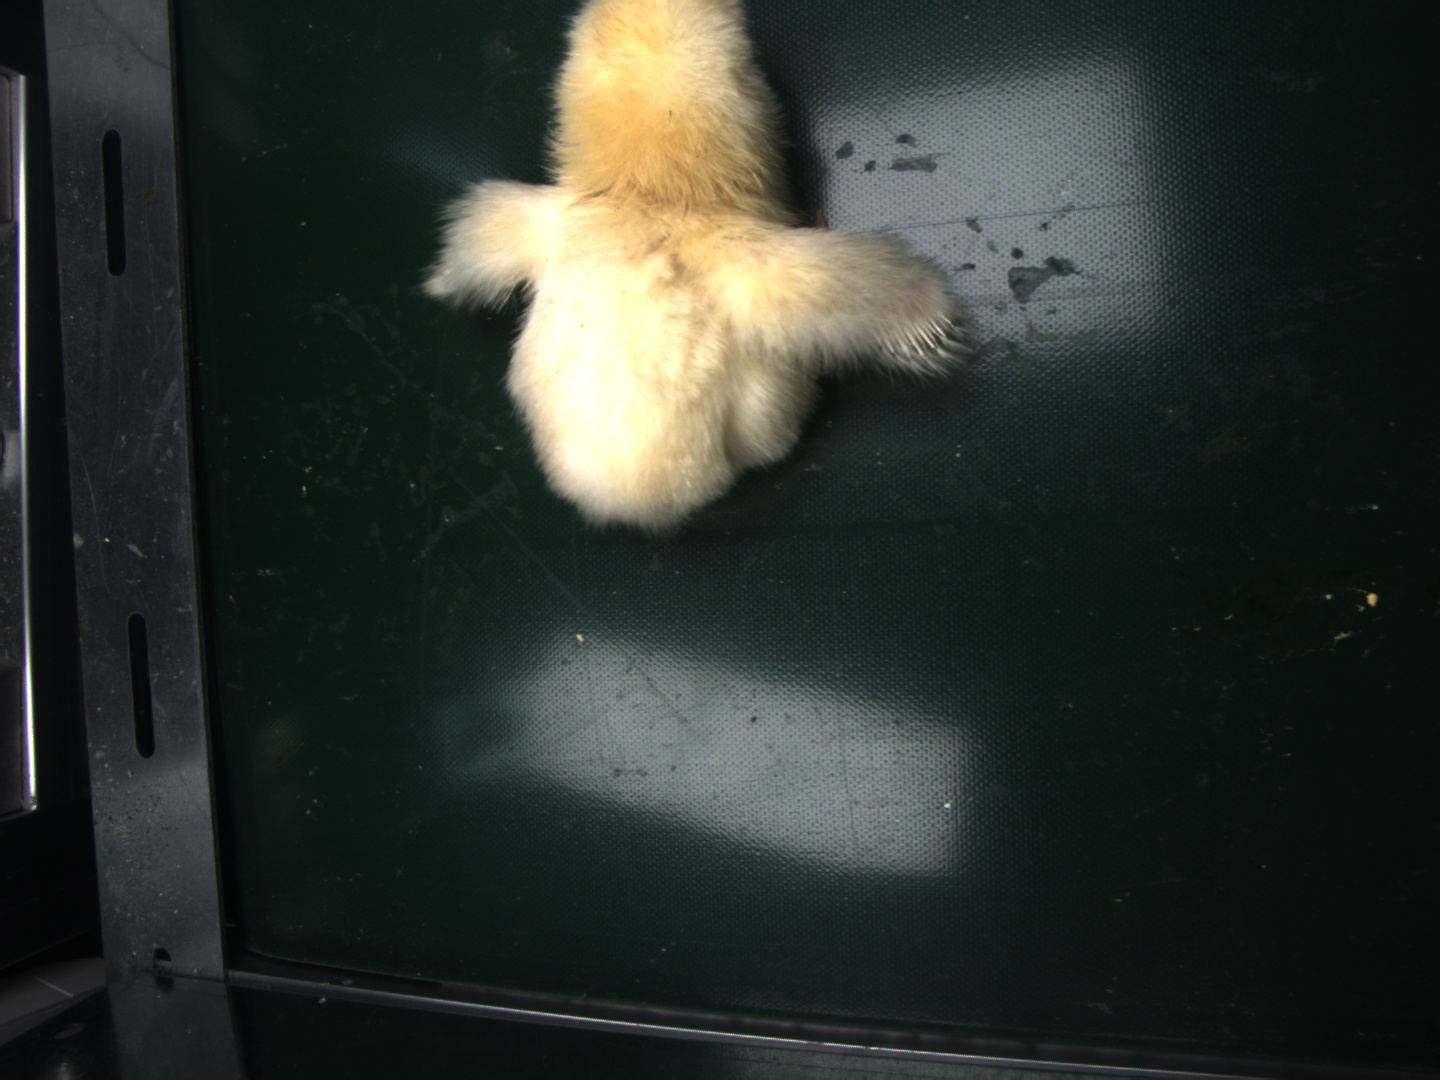male: (881, 312, 952, 357)
